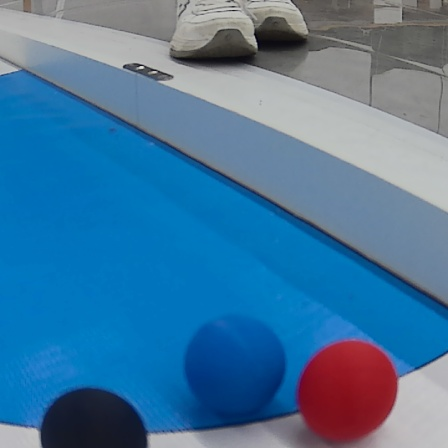black: (44, 387, 151, 448)
blue: (175, 312, 285, 412)
blue_base: (0, 66, 429, 439)
red: (301, 339, 398, 439)
